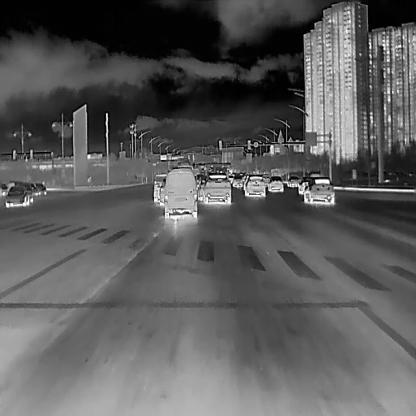car: (163, 168, 196, 218), (203, 173, 231, 203), (303, 177, 334, 204), (4, 185, 28, 206), (244, 175, 265, 197), (153, 174, 166, 201), (268, 176, 283, 192), (299, 177, 314, 193), (158, 180, 166, 205), (287, 174, 298, 187), (232, 175, 242, 187), (28, 182, 38, 194), (38, 182, 46, 193)
